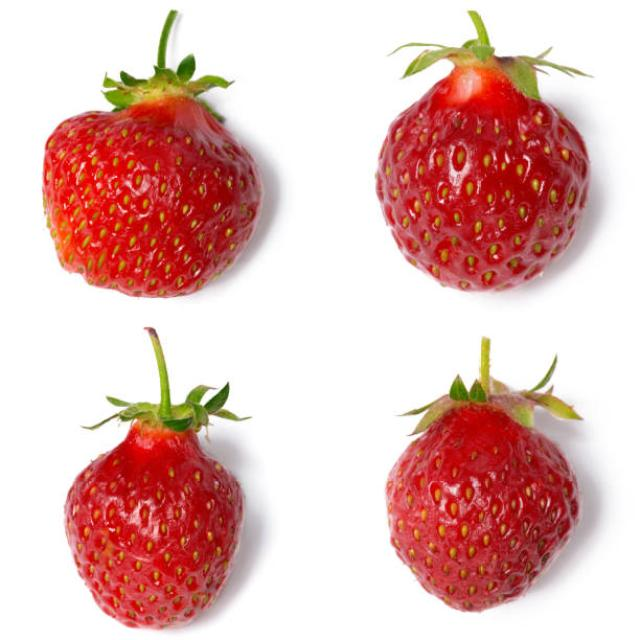Healthy Fruit: (376, 66, 590, 292), (42, 100, 262, 296), (384, 404, 580, 612), (65, 428, 245, 631)
